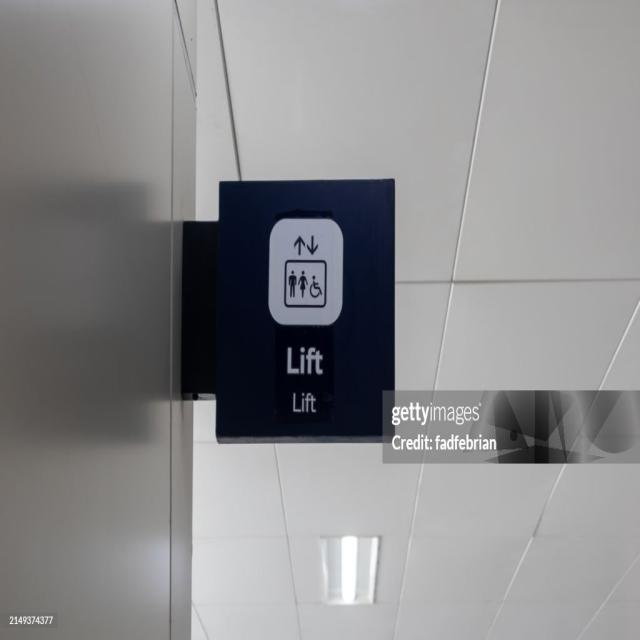lift_icon: (268, 214, 338, 326)
